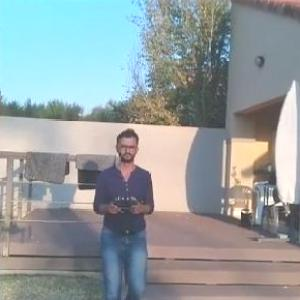follow: (87, 121, 160, 299)
